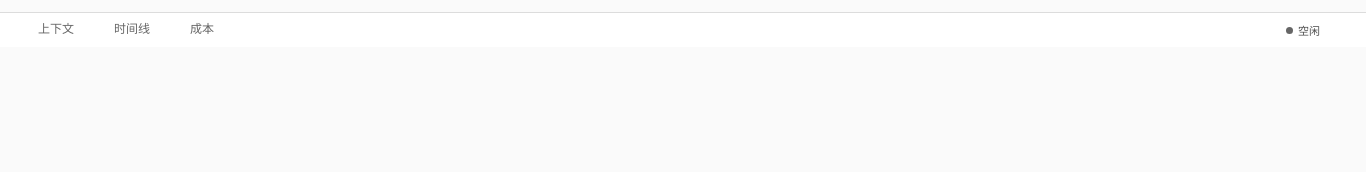
Test: BottomPanel 移动端标签条 › 「更多标签」用省略号，与面板开合的 chevron 区分
Click the button named "更多面板标签" at (242, 30), box [226,14,259,46]
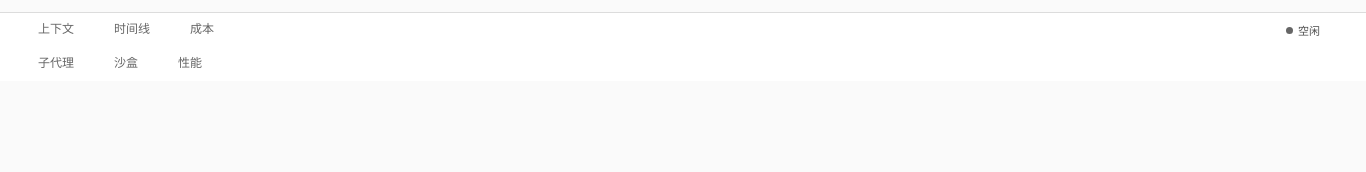
Expected: the button "子代理" is shown, [10,48,84,80]
